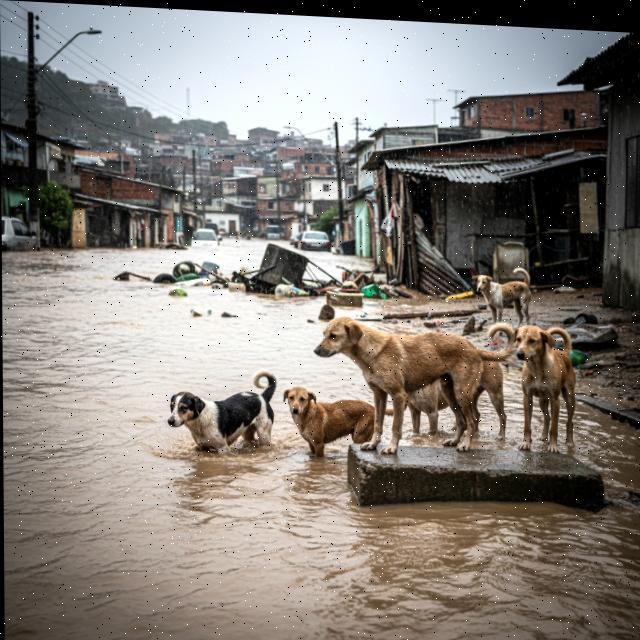dog: (309, 312, 506, 466), (393, 338, 509, 440), (162, 359, 278, 458), (507, 323, 591, 455), (277, 378, 410, 461), (462, 265, 548, 325)
